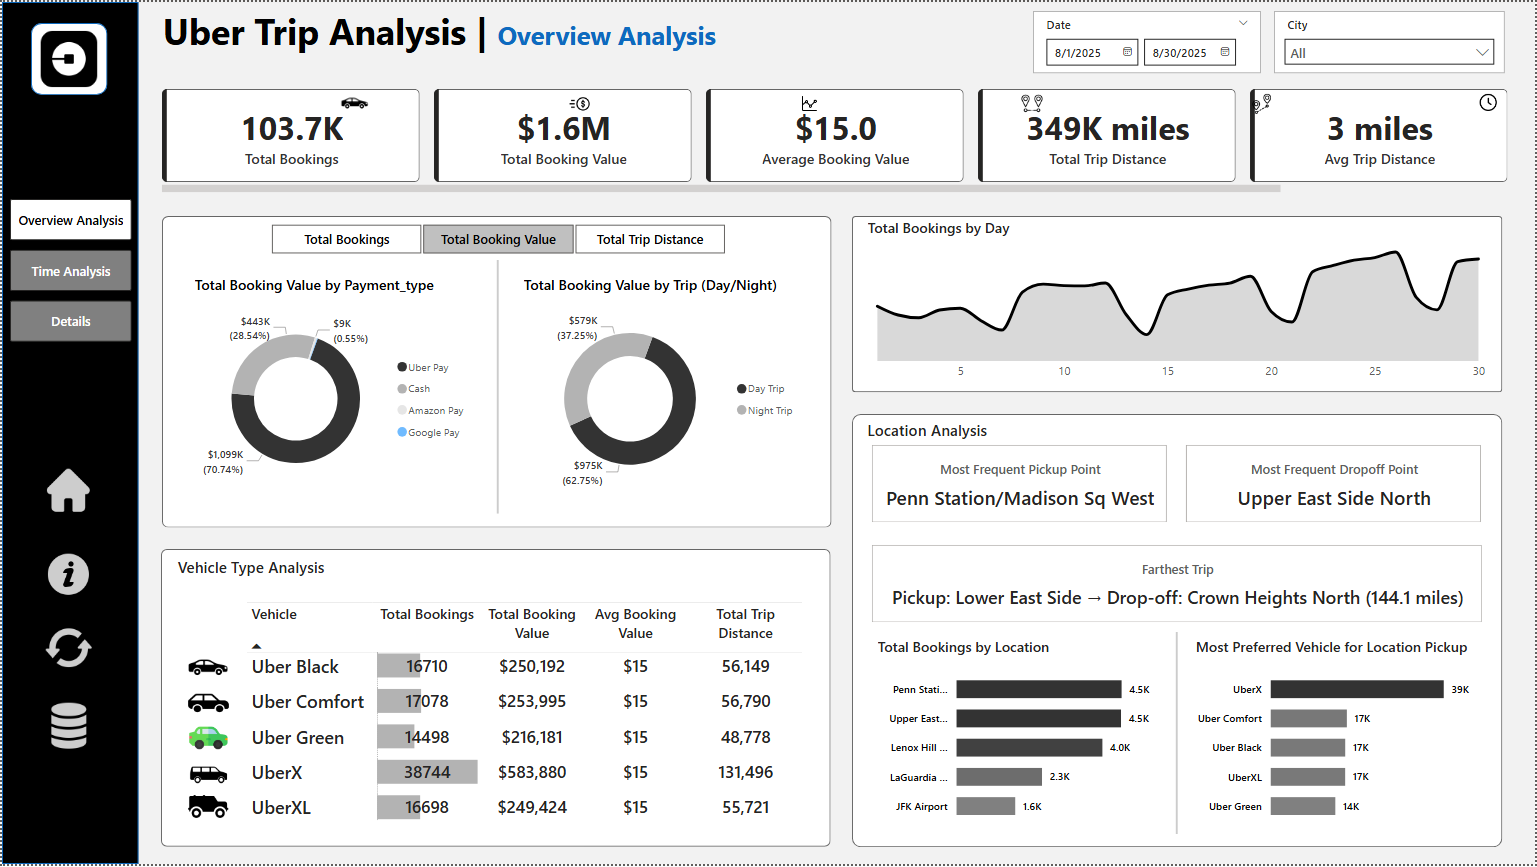

The dashboard page shown, as its layout file describes it:
{"tool":"powerbi","page":{"name":"Overview Analysis","canvas":[1600,900],"ordinal":0},"visuals":[{"type":"shape","box":[0,0,142.5,900],"z":0},{"type":"shape","box":[29.8,22.3,79.7,75.2],"z":0,"group":"g1"},{"type":"textbox","box":[162.7,0,616.1,65.1],"z":1000},{"type":"image","box":[32.7,25.2,73.1,69.3],"z":1000,"group":"g1"},{"type":"cardVisual","fields":{"Data":["Trip Details.Total Bookings","Trip Details.Total Booking Value","Trip Details.Average Booking Amount","Trip Details.Total Trip Distance","Trip Details.Avg Trip Distance","Trip Details.Avg Trip Time"]},"box":[161.6,85.2,1415,120],"z":2000},{"type":"image","box":[582.9,91.1,41.1,31.1],"z":3000},{"type":"image","box":[1051.8,89.9,47.8,32.2],"z":4000},{"type":"image","box":[1289.6,91.1,53.3,31.1],"z":5000},{"type":"image","box":[1533.3,91.1,35.6,27.8],"z":6000},{"type":"image","box":[826.3,92.2,34.4,27.8],"z":7000},{"type":"shape","box":[166.8,223.3,699,325.4],"z":8000},{"type":"image","box":[346.4,84.2,42.6,41.5],"z":9000},{"type":"slicer","fields":{"Values":["Dynamic Measure.Dynamic Measure"]},"box":[255.5,225.6,522.9,43.8],"z":10000},{"type":"donutChart","fields":{"Y":["Trip Details.Total Booking Value"],"Category":["Trip Details.Payment_type"]},"box":[196.4,285.1,299.9,238.5],"z":11000},{"type":"donutChart","fields":{"Y":["Trip Details.Total Booking Value"],"Category":["Trip Details.Trip Type (Day/Night)"]},"box":[540.3,285.1,299.9,238.5],"z":12000},{"type":"shape","box":[166.1,571.2,699.1,310.8],"z":13000},{"type":"pivotTable","fields":{"Rows":["Trip Details.Vehicle"],"Values":["Trip Details.Total Bookings","Trip Details.Total Booking Value","Trip Details.Average Booking Value","Trip Details.Total Trip Distance Measure"]},"box":[250.3,620.8,609.8,244.4],"z":14000},{"type":"image","box":[169.4,666.2,92,56.7],"z":15000},{"type":"image","box":[179.2,704.7,72.5,53.8],"z":16000},{"type":"image","box":[177.3,743.4,76.2,50],"z":17000},{"type":"image","box":[166.1,779.7,98.8,53.8],"z":18000},{"type":"image","box":[172.3,813.4,86.2,52.5],"z":19000},{"type":"card","fields":{"Values":["Trip Details.Title for Grid"]},"box":[170.8,577.2,177.5,30],"z":20000},{"type":"shape","box":[887.7,223.3,678.9,184],"z":21000},{"type":"areaChart","fields":{"Category":["Calendar Table.Date.Variation.Date Hierarchy.Day"],"Y":["Trip Details.Total Bookings"]},"box":[898.9,225.6,657.6,178.4],"z":22000},{"type":"shape","box":[887.7,429.8,678.9,452.2],"z":23000},{"type":"cardVisual","fields":{"Data":["Trip Details.Most Frequent Pickup Point","Trip Details.Most Frequent Dropoff Point"]},"box":[902.9,457.7,647.8,91.1],"z":24000},{"type":"cardVisual","fields":{"Data":["Trip Details.Farthest Trip"]},"box":[902.9,562.2,647.8,91.1],"z":25000},{"type":"barChart","fields":{"Category":["Location Table.Location"],"Y":["Trip Details.Total Bookings"]},"box":[909,663.2,297.4,204.2],"z":26000},{"type":"barChart","title":"Most Preferred Vehicle for Location Pickup ","fields":{"Category":["Trip Details.Vehicle"],"Y":["CountNonNull(Trip Details.PULocationID)"]},"box":[1241.1,663.2,304.1,204.2],"z":27000},{"type":"shape","box":[506.1,269.3,22.4,264.8],"z":28000},{"type":"shape","box":[1215.3,657.6,22.4,211],"z":29000},{"type":"card","fields":{"Values":["Trip Details.Title for Locaton"]},"box":[888.8,434.3,154.9,30.3],"z":30000},{"type":"slicer","fields":{"Values":["Calendar Table.Date"]},"box":[1076.2,9,237.9,65.1],"z":31000},{"type":"slicer","fields":{"Values":["Location Table.City"]},"box":[1327.6,9,241.3,65.1],"z":32000},{"type":"pageNavigator","box":[7.9,205.4,127.9,149.3],"z":33000},{"type":"group","id":"g1","title":"Uber Logo","box":[29.8,22.3,79.7,75.2],"z":34000},{"type":"image","box":[41.5,480.3,55,58.4],"z":35000},{"type":"image","box":[39.3,645.3,60.6,58.4],"z":36000},{"type":"image","box":[42.6,567.8,52.7,58.4],"z":37000},{"type":"image","box":[40.4,724.9,58.4,61.7],"z":38000}]}

Visuals, with their boxes on the page's 1600x900 design canvas (x1, y1, x2, y2). These are canvas units, not pixel positions in the 1537x867 screenshot, which may show the page scaled, cropped or inside an application window:
shape: detection(0, 0, 142, 900)
shape: detection(30, 22, 110, 98)
textbox: detection(163, 0, 779, 65)
image: detection(33, 25, 106, 94)
cardVisual - Trip Details.Total Bookings x Trip Details.Total Booking Value: detection(162, 85, 1577, 205)
image: detection(583, 91, 624, 122)
image: detection(1052, 90, 1100, 122)
image: detection(1290, 91, 1343, 122)
image: detection(1533, 91, 1569, 119)
image: detection(826, 92, 861, 120)
shape: detection(167, 223, 866, 549)
image: detection(346, 84, 389, 126)
slicer - Dynamic Measure.Dynamic Measure: detection(256, 226, 778, 269)
donutChart - Trip Details.Total Booking Value x Trip Details.Payment_type: detection(196, 285, 496, 524)
donutChart - Trip Details.Total Booking Value x Trip Details.Trip Type (Day/Night): detection(540, 285, 840, 524)
shape: detection(166, 571, 865, 882)
pivotTable - Trip Details.Vehicle x Trip Details.Total Bookings: detection(250, 621, 860, 865)
image: detection(169, 666, 261, 723)
image: detection(179, 705, 252, 758)
image: detection(177, 743, 254, 793)
image: detection(166, 780, 265, 834)
image: detection(172, 813, 258, 866)
card - Trip Details.Title for Grid: detection(171, 577, 348, 607)
shape: detection(888, 223, 1567, 407)
areaChart - Calendar Table.Date.Variation.Date Hierarchy.Day x Trip Details.Total Bookings: detection(899, 226, 1556, 404)
shape: detection(888, 430, 1567, 882)
cardVisual - Trip Details.Most Frequent Pickup Point x Trip Details.Most Frequent Dropoff Point: detection(903, 458, 1551, 549)
cardVisual - Trip Details.Farthest Trip: detection(903, 562, 1551, 653)
barChart - Location Table.Location x Trip Details.Total Bookings: detection(909, 663, 1206, 867)
"Most Preferred Vehicle for Location Pickup " barChart: detection(1241, 663, 1545, 867)
shape: detection(506, 269, 528, 534)
shape: detection(1215, 658, 1238, 869)
card - Trip Details.Title for Locaton: detection(889, 434, 1044, 465)
slicer - Calendar Table.Date: detection(1076, 9, 1314, 74)
slicer - Location Table.City: detection(1328, 9, 1569, 74)
pageNavigator: detection(8, 205, 136, 355)
"Uber Logo" group: detection(30, 22, 110, 98)
image: detection(42, 480, 96, 539)
image: detection(39, 645, 100, 704)
image: detection(43, 568, 95, 626)
image: detection(40, 725, 99, 787)
